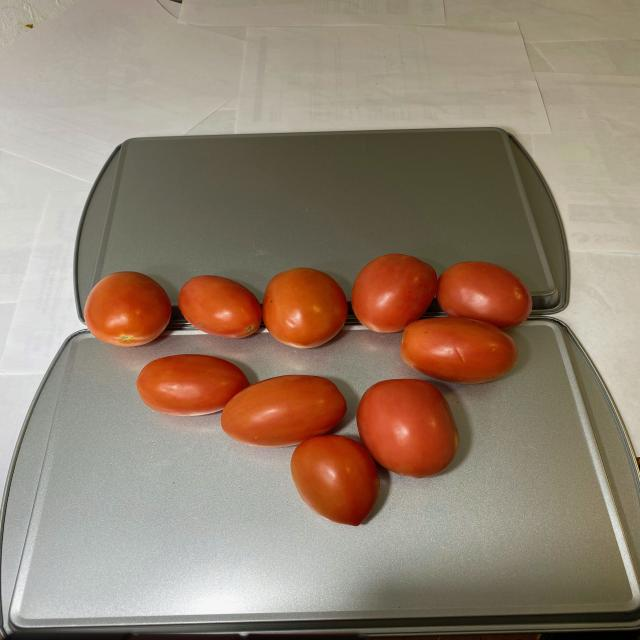tomato: (86, 252, 534, 534)
